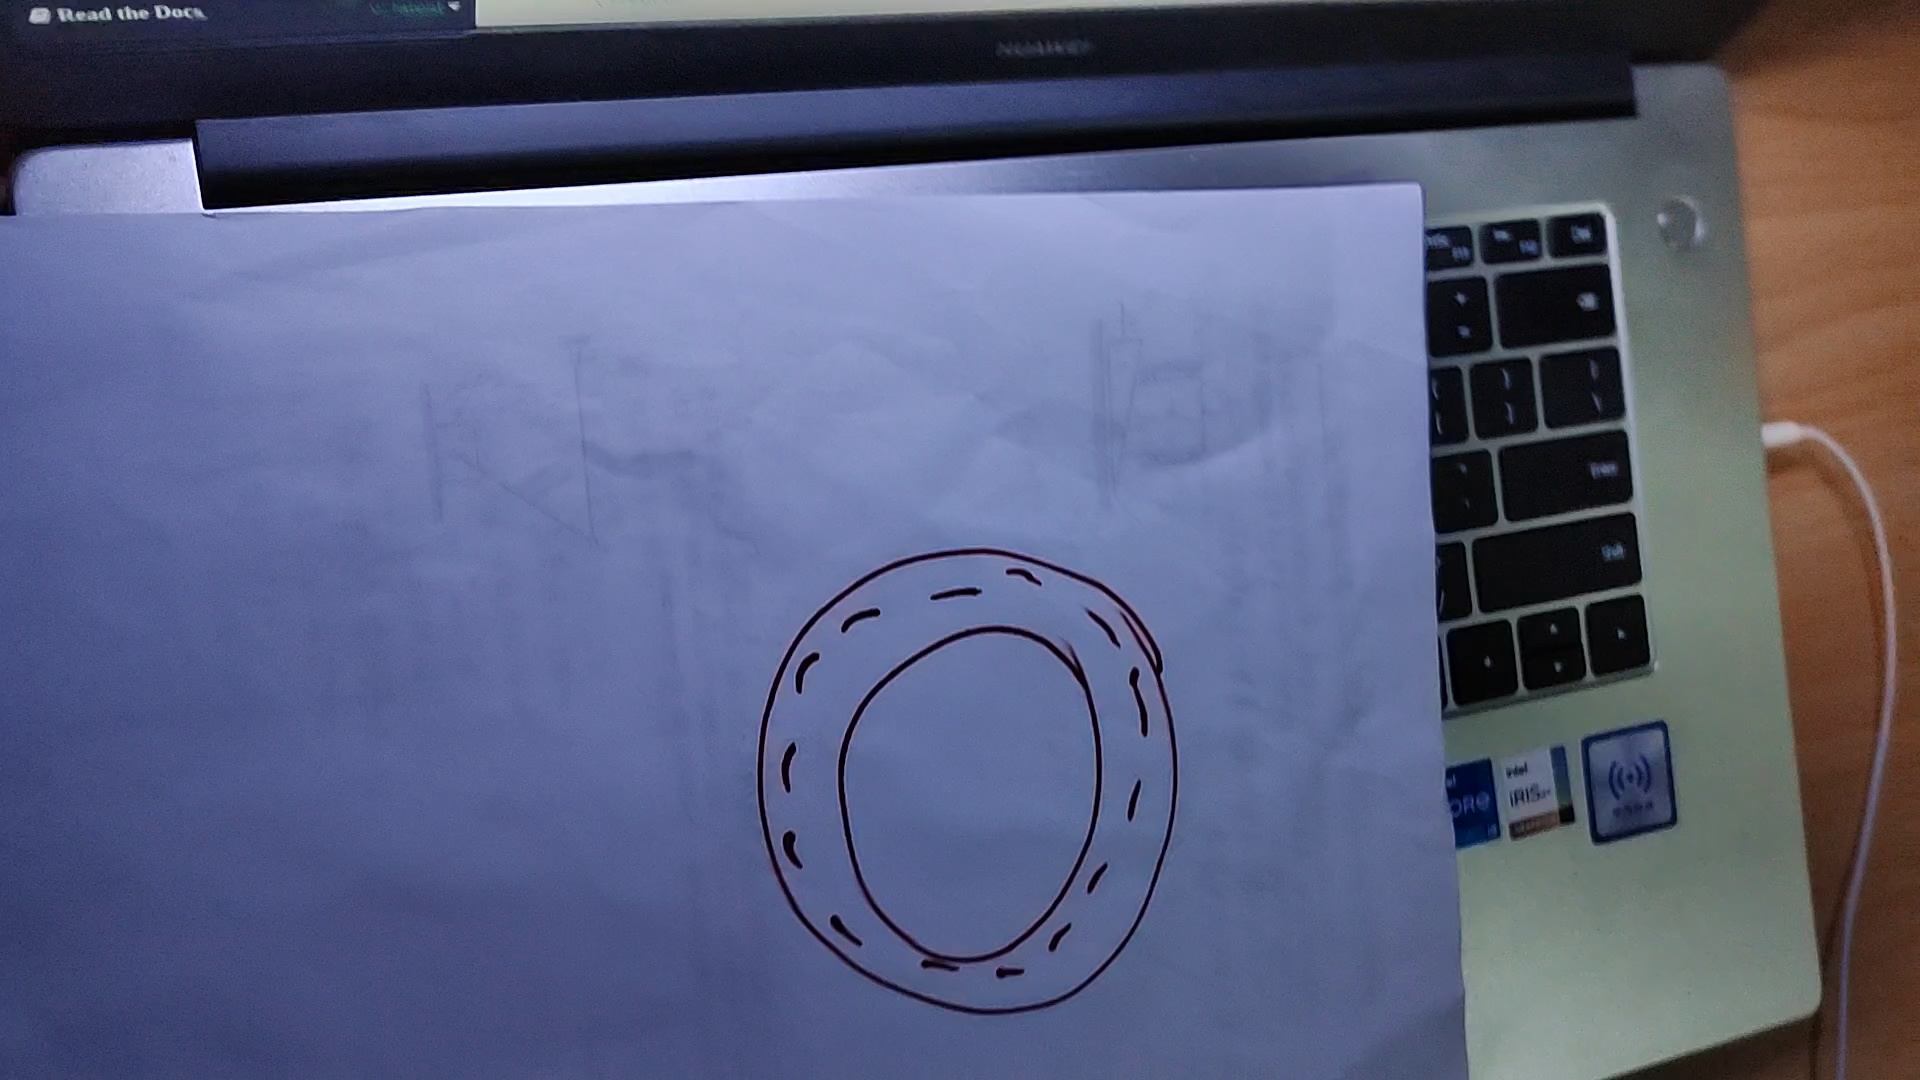circle: (760, 549, 1182, 1014)
